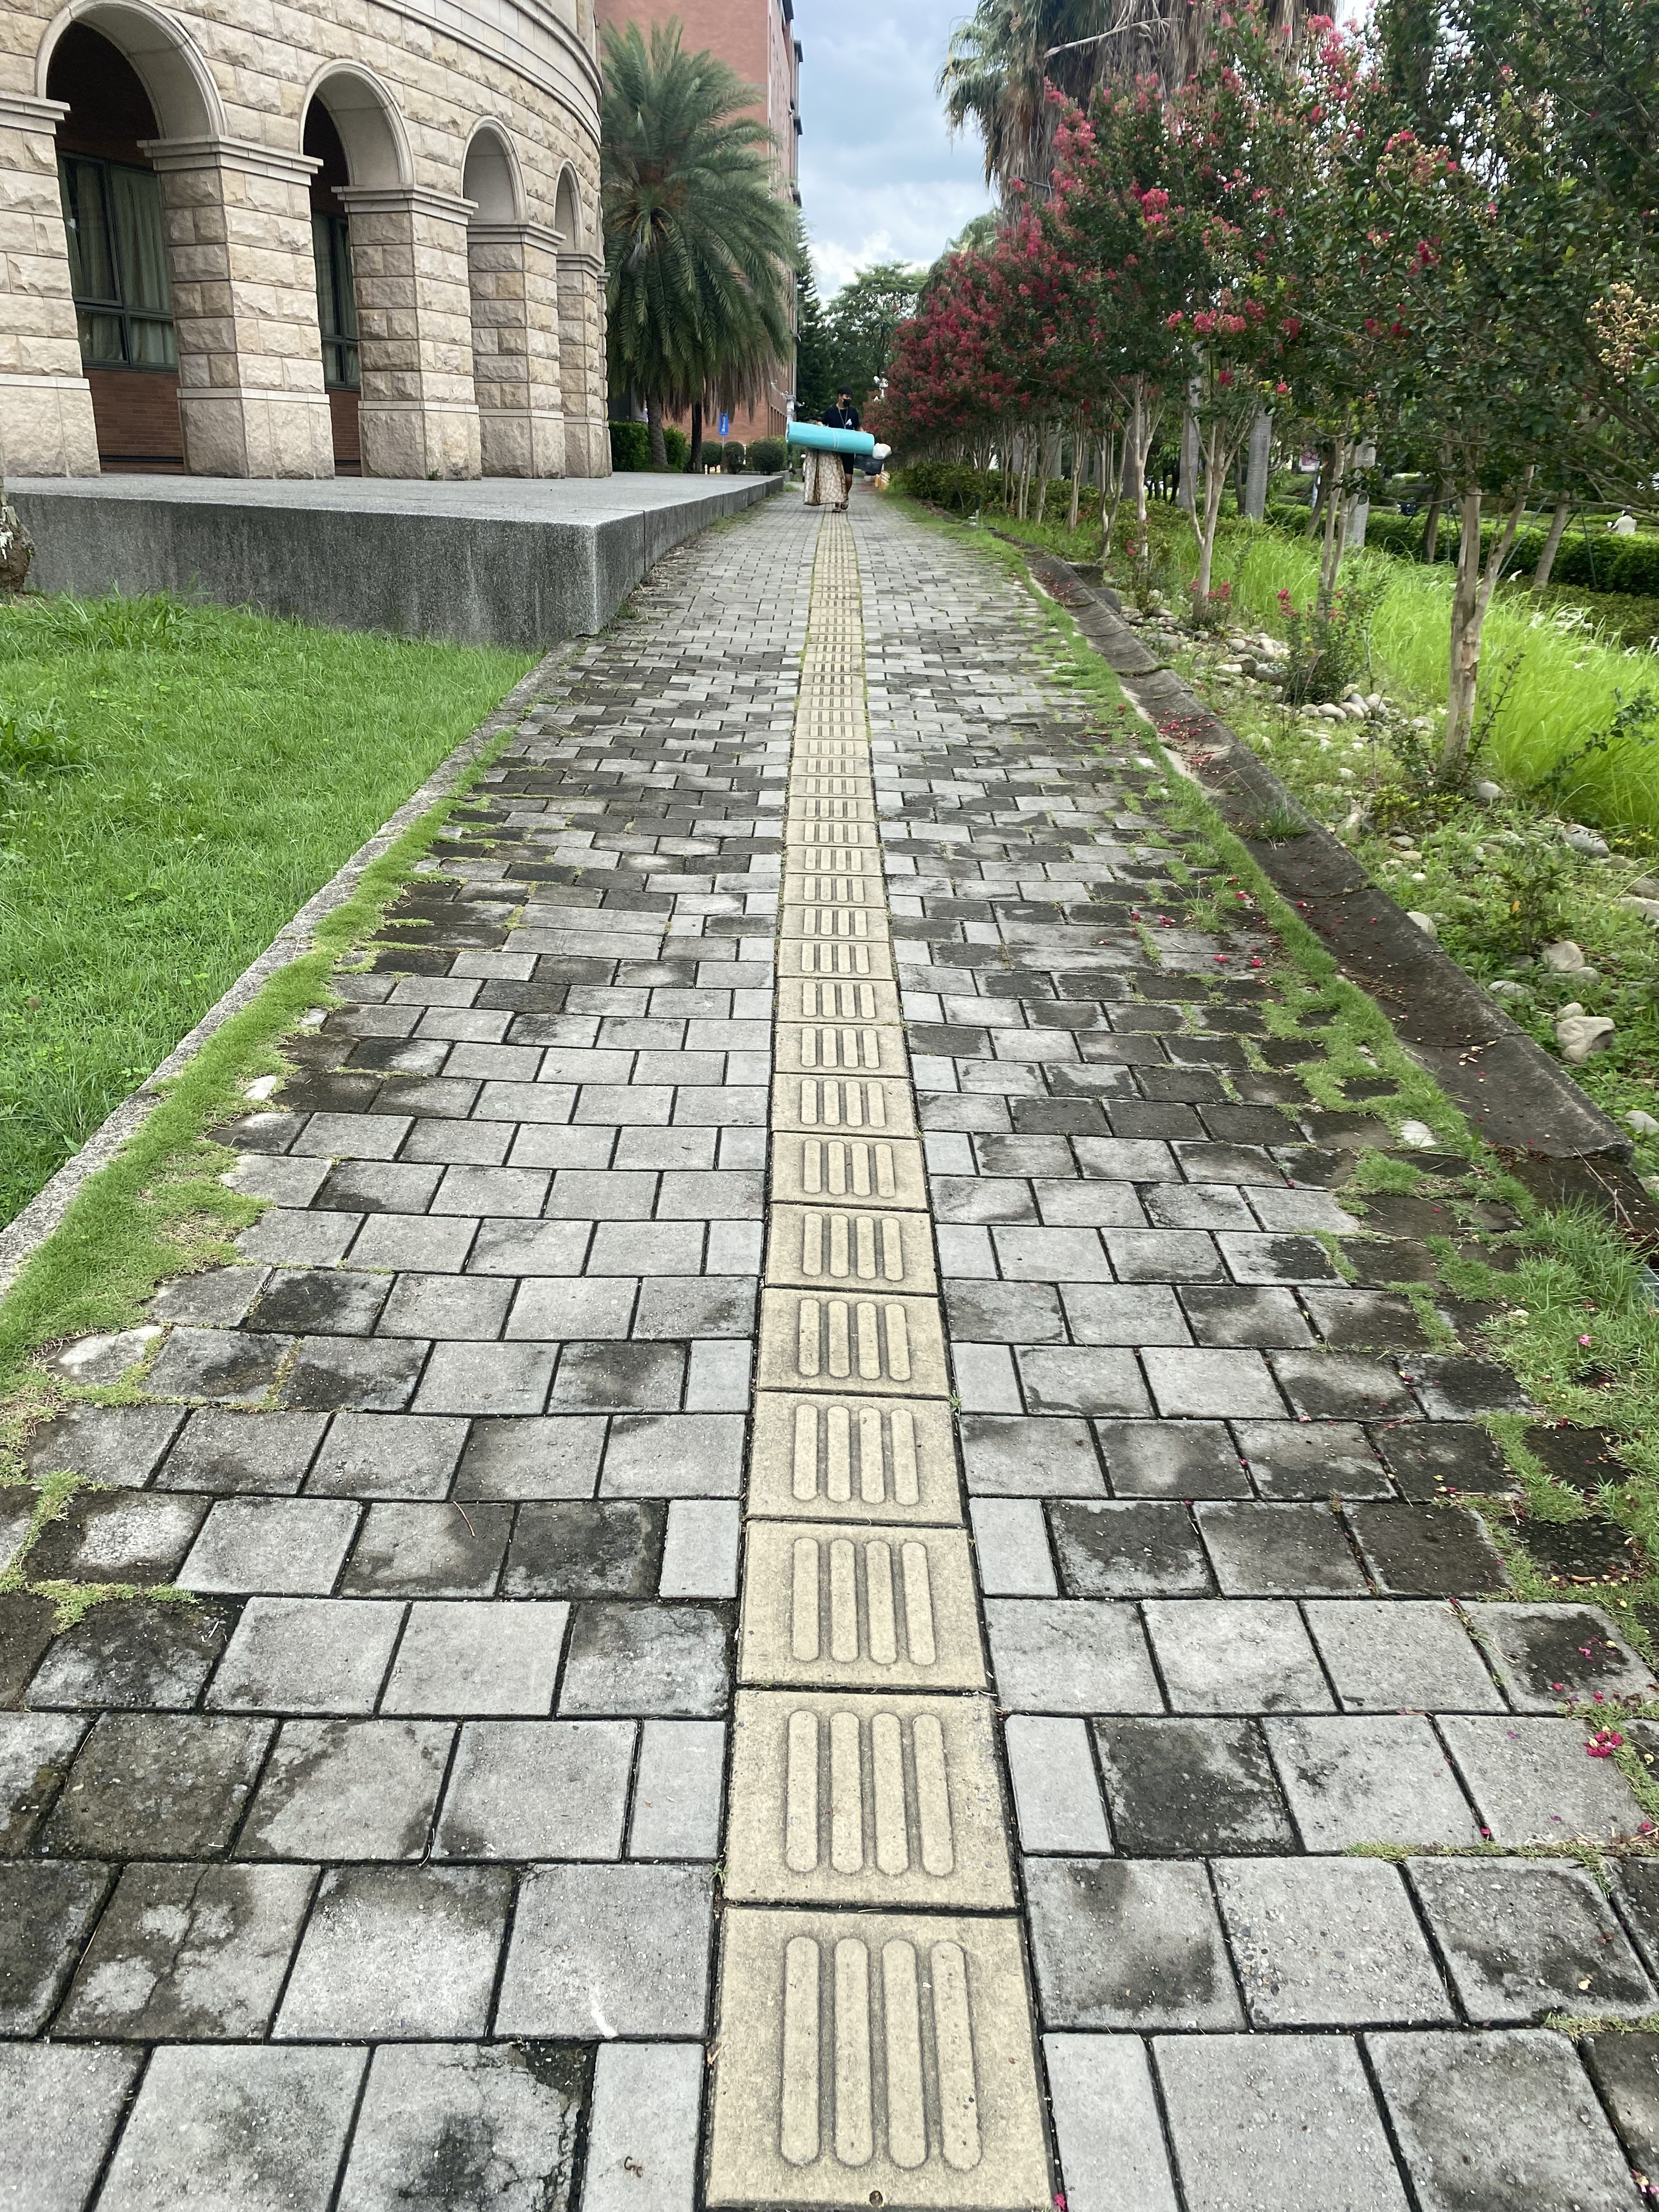sidewalk: (0, 500, 1659, 2212)
